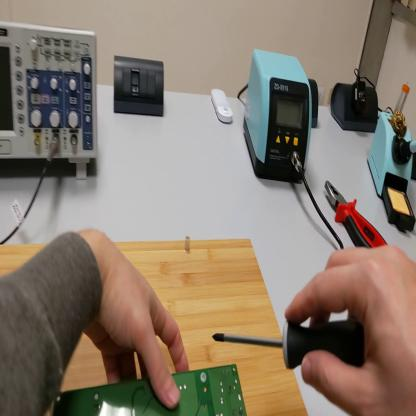hand: (289, 244, 416, 416), (85, 238, 190, 407)
low voltage board: (55, 363, 247, 416)
oscilloscope: (3, 24, 99, 179)
pliers: (325, 180, 389, 249)
screwdriver-: (211, 314, 368, 372)
socket: (333, 82, 379, 132), (310, 78, 319, 130)
welder base: (368, 107, 416, 233)
welder station: (244, 50, 314, 185)
working area: (2, 239, 308, 414)
